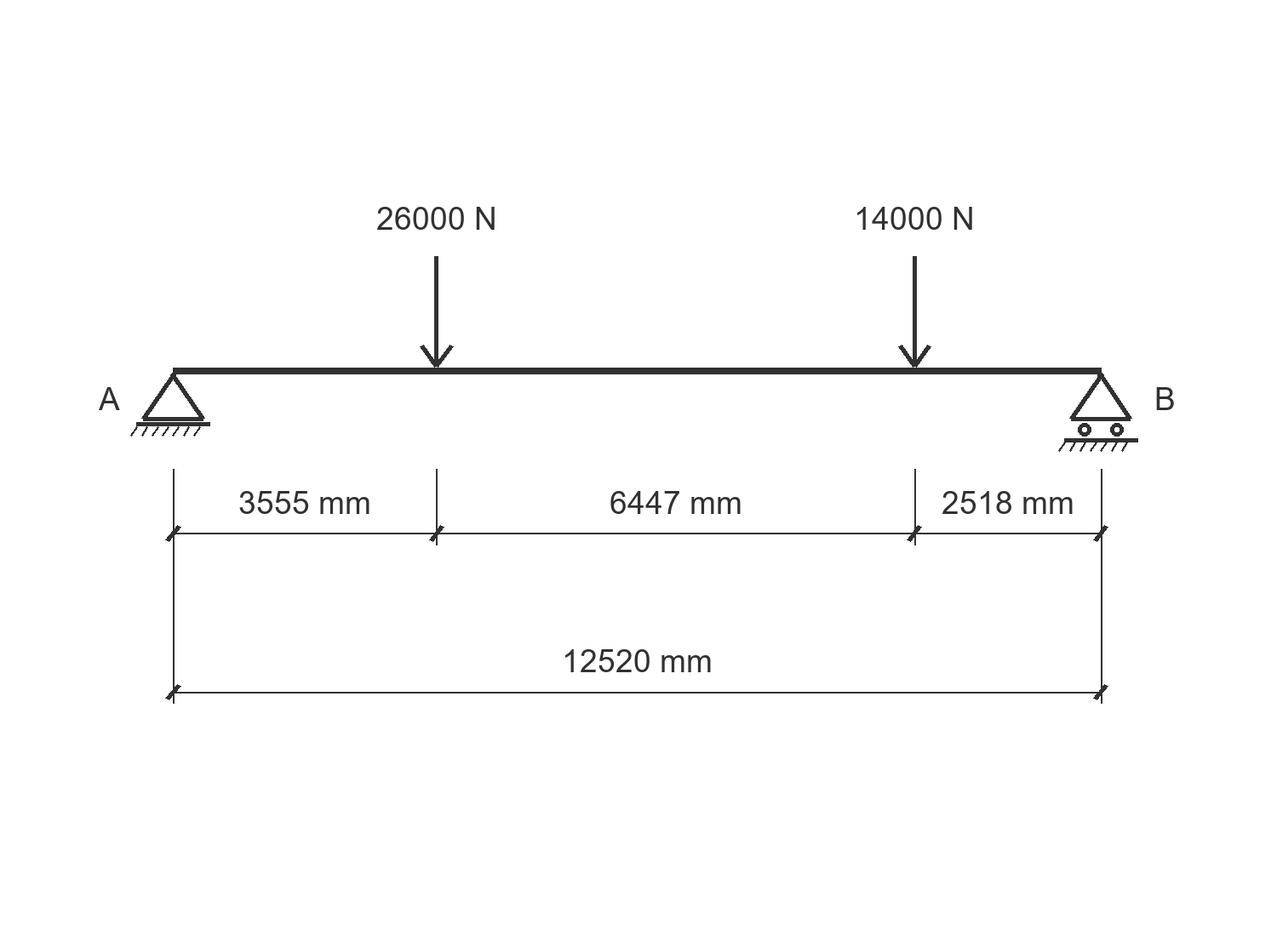pin_support: (130, 373, 210, 437)
point_load: (420, 256, 454, 368), (898, 256, 931, 368)
roller_support: (1058, 373, 1138, 452)
